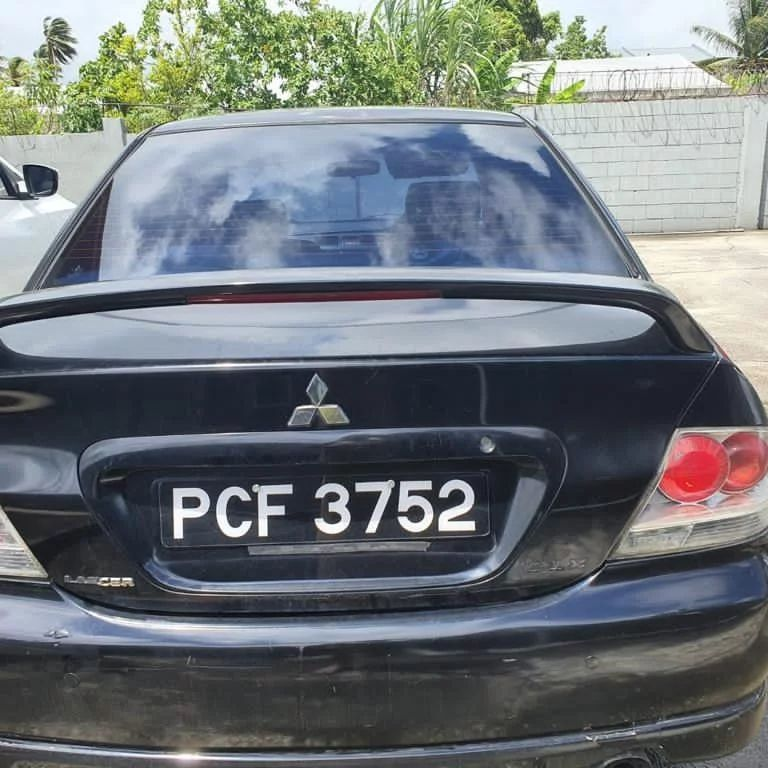License-Plate: (162, 480, 483, 545)
